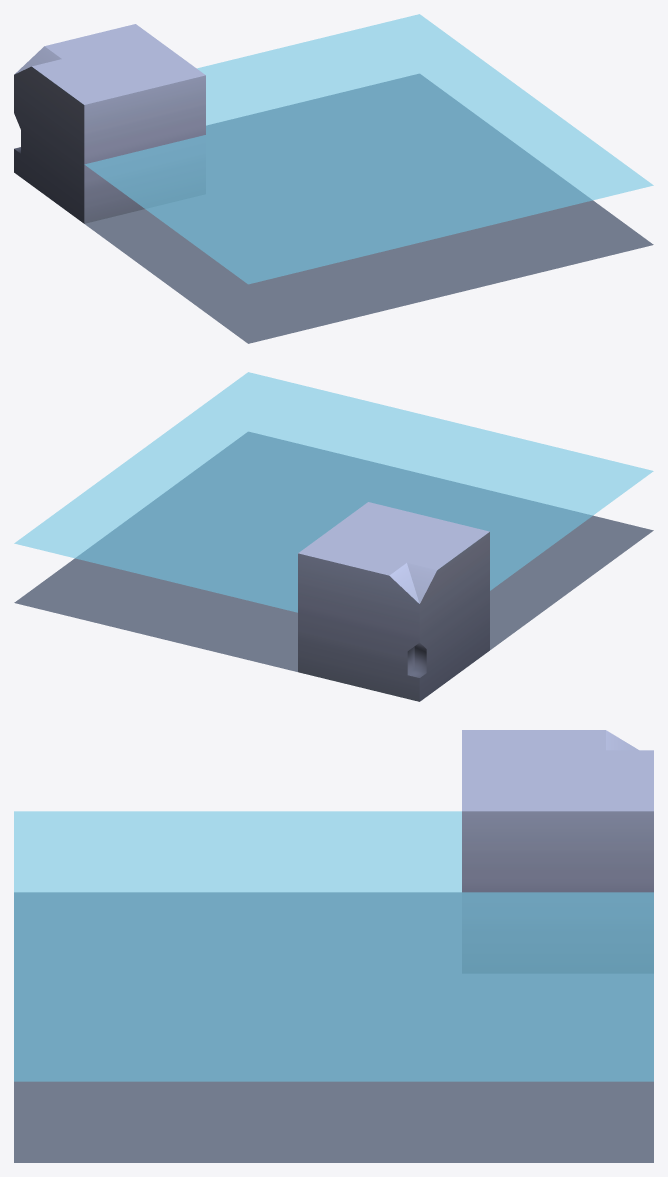
The model's file is fountain-corner-inner-square.glb.
3 views of the same model, one above another, from view 1: azimuth 30°, elevation 25°; view 2: azimuth 150°, elevation 25°; view 3: azimuth 270°, elevation 25° (orthographic). The views are drawn at different scales.
Visible parts, largest first — view 1: fountain-corner-inner-square, (%ignore); view 2: fountain-corner-inner-square, (%ignore); view 3: fountain-corner-inner-square, (%ignore).
Boxes of the visible parts, bbox=[...] form: fountain-corner-inner-square: bbox=[14, 24, 653, 343]; (%ignore): bbox=[84, 14, 653, 284]; fountain-corner-inner-square: bbox=[14, 432, 653, 701]; (%ignore): bbox=[14, 372, 653, 612]; fountain-corner-inner-square: bbox=[14, 730, 653, 1162]; (%ignore): bbox=[14, 811, 653, 1081].
Bounding box in the file's own units: 1 × 0.2799 × 1.
Materials: 2 (1 with a texture image).
